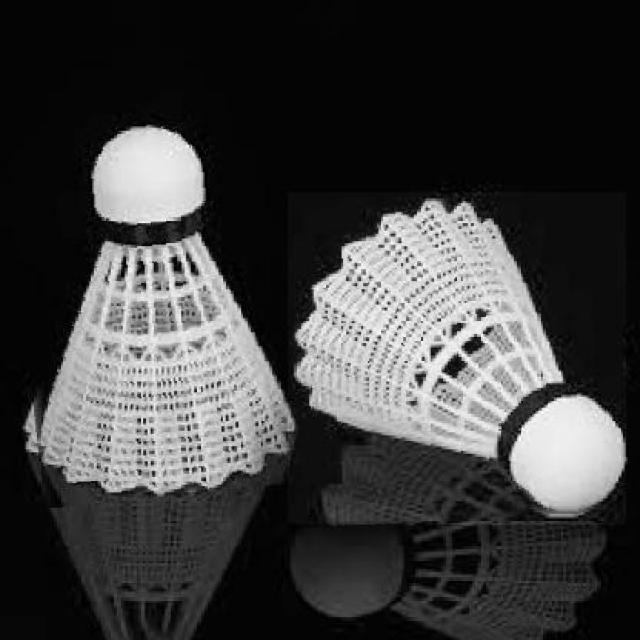Shuttlecock: (288, 192, 626, 525), (14, 112, 295, 502)
